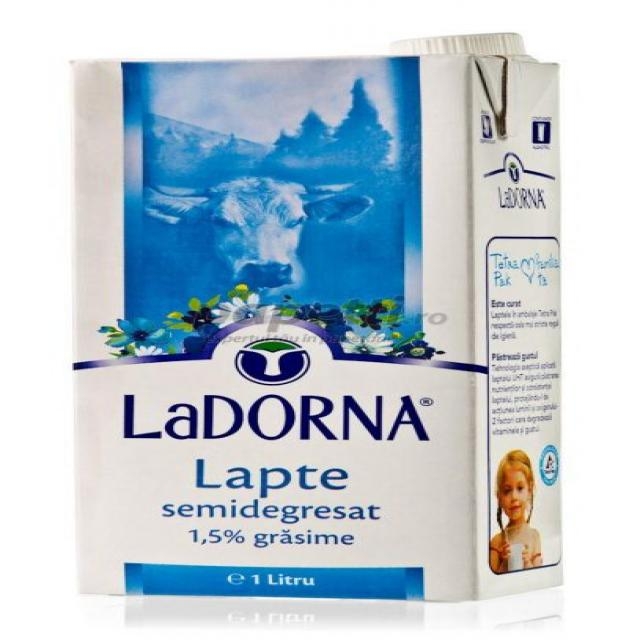milk: (70, 33, 564, 630)
